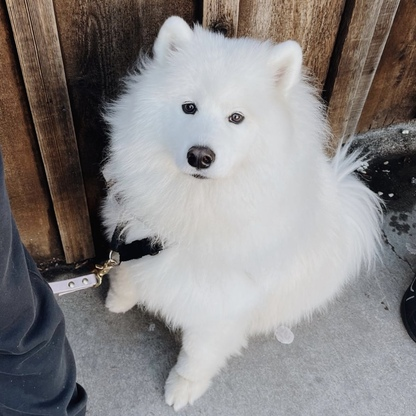samoyed: (96, 10, 392, 416)
